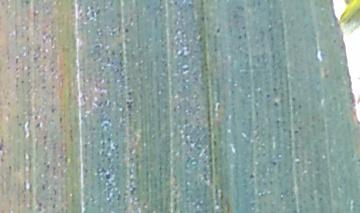tarspot: (126, 90, 134, 111), (122, 25, 131, 34), (269, 159, 279, 167), (272, 100, 280, 108), (264, 92, 271, 100), (292, 129, 300, 136), (215, 26, 221, 35), (290, 95, 297, 102), (248, 172, 254, 180), (271, 85, 276, 92), (199, 15, 204, 22), (297, 103, 302, 110)
